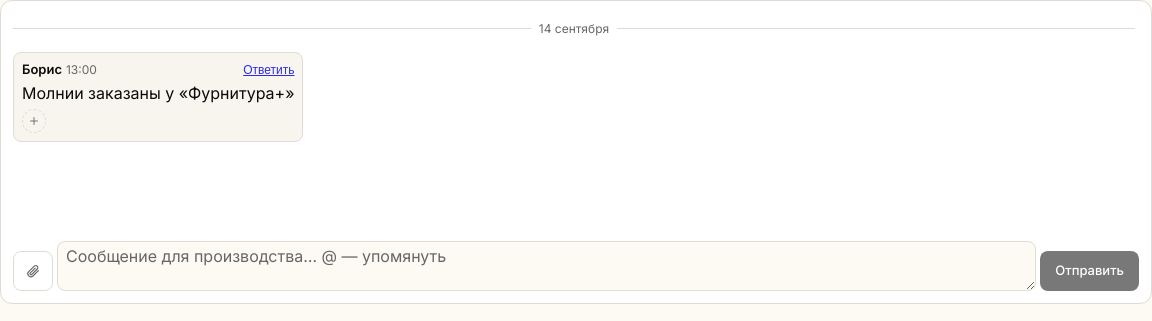
Test case: диалог бизнес-задачи › в упоминаниях только участники
Step 1. Type "@" into the text box named "Новое сообщение" → (547, 266), box x1=57 y1=241 x2=1036 y2=291
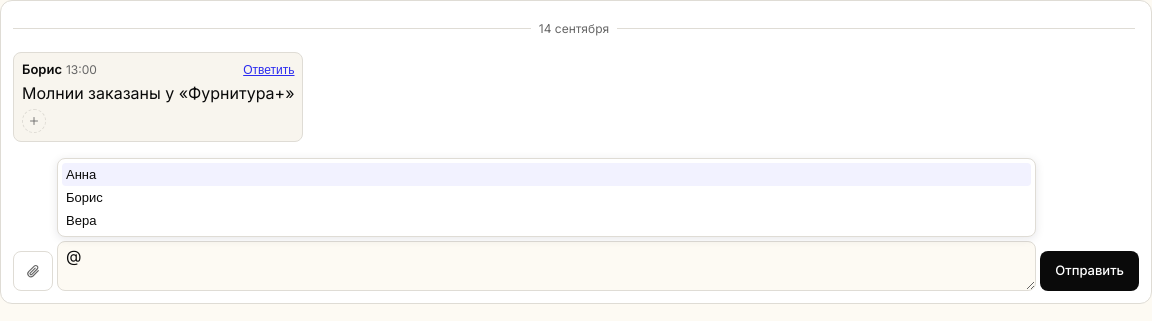
Check: the options read "Анна", "Борис", "Вера", in this order, box x1=62 y1=163 x2=1031 y2=186; x1=62 y1=186 x2=1031 y2=209; x1=62 y1=209 x2=1031 y2=232
